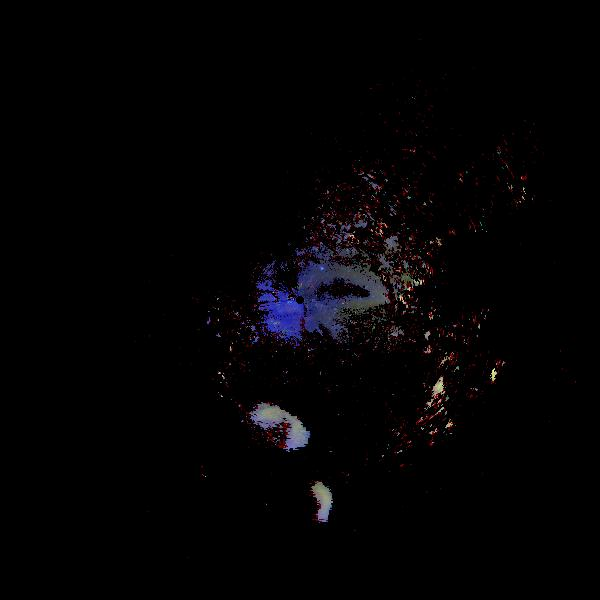roost: (261, 408, 306, 453), (296, 484, 335, 523)
